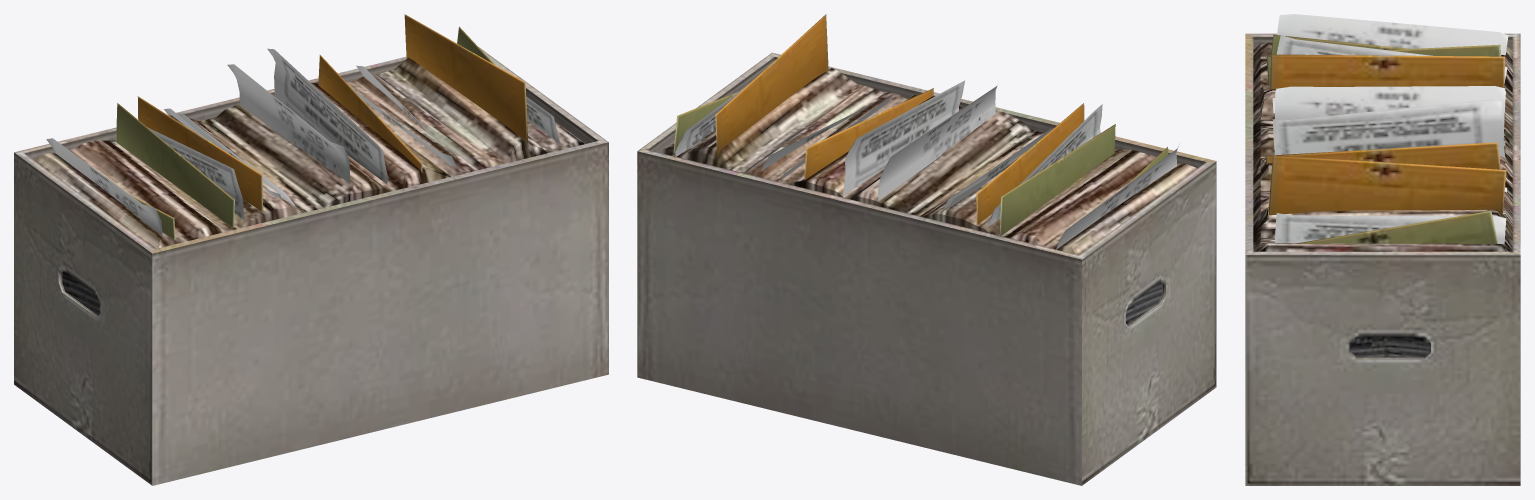
3 views of the same model, side by side, from view 1: azimuth 30°, elevation 25°; view 2: azimuth 150°, elevation 25°; view 3: azimuth 270°, elevation 25° (orthographic). The views are drawn at different scales.
Visible parts, largest first — view 1: 0_File_box; view 2: 0_File_box; view 3: 0_File_box.
Part boxes in pixels (x1,y1,x2,y2): 0_File_box: (14, 14, 608, 485); 0_File_box: (637, 14, 1216, 485); 0_File_box: (1245, 14, 1520, 485).
Bounding box in the file's own units: 0.665 × 0.4163 × 0.3493.
Materials: 1 (1 with a texture image).
